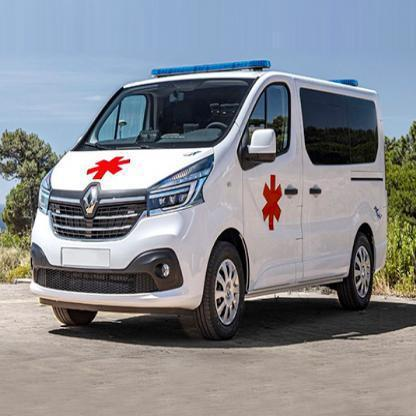Ambulance - v1 Ambulance last generate: (27, 55, 394, 332)
